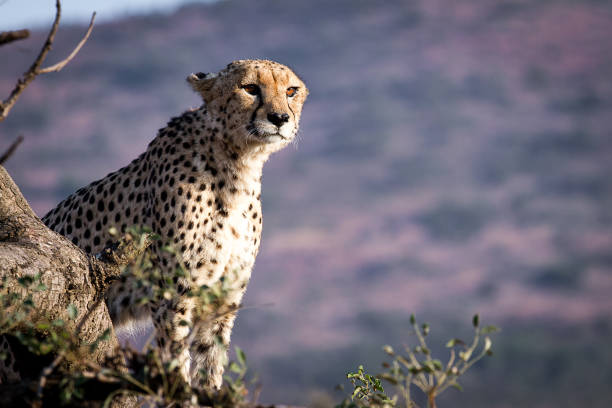cheetah: (179, 50, 317, 162)
